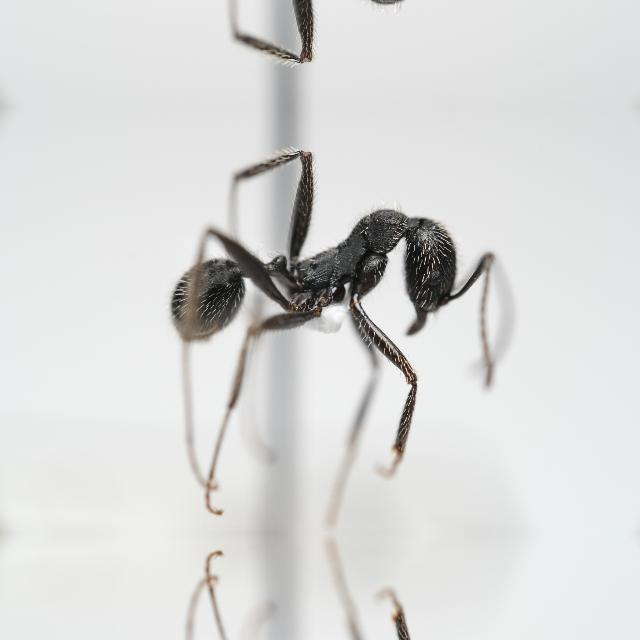Apheanogaster: (144, 182, 496, 372)
